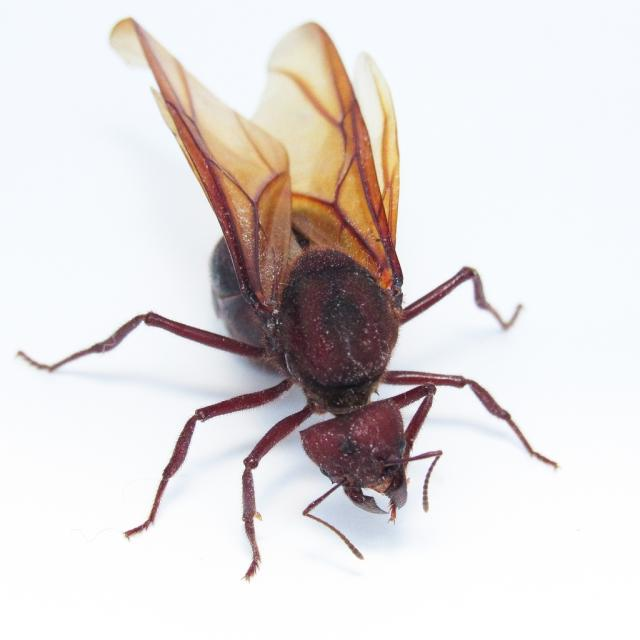Alive-Female-Alate: (14, 17, 562, 585)
